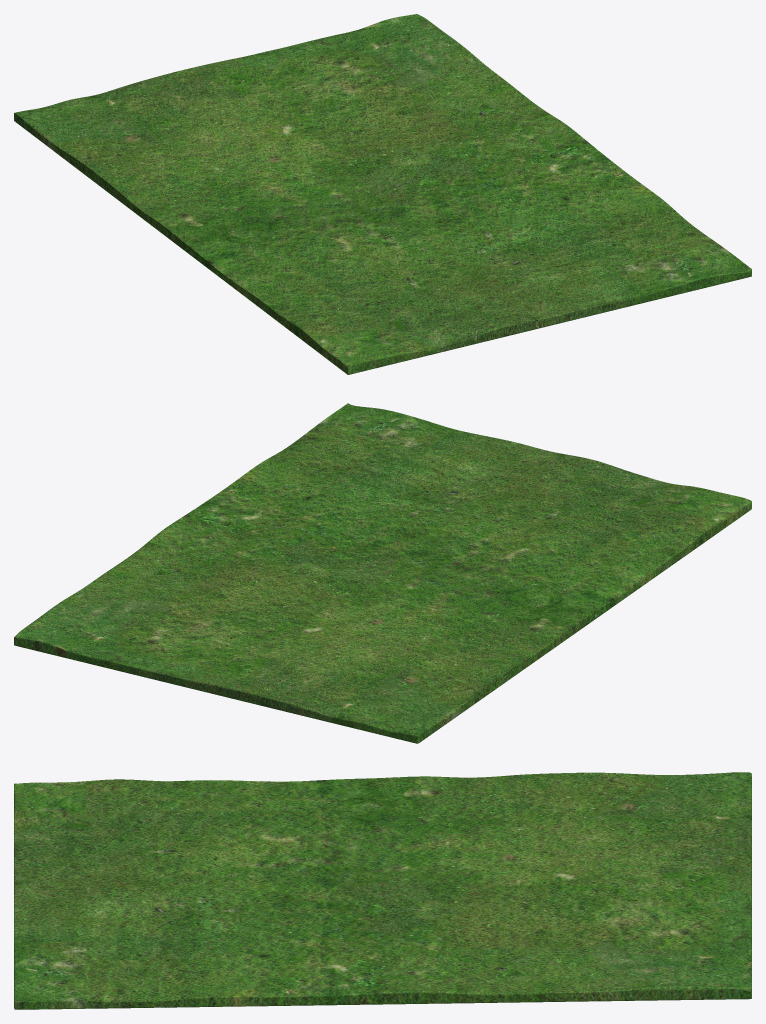
The model's file is grass.gltf.
The picture shows the model from 3 angles, top to bottom: view 1: azimuth 30°, elevation 25°; view 2: azimuth 150°, elevation 25°; view 3: azimuth 270°, elevation 25°; orthographic projection. The views are drawn at different scales.
Parts seen in each view (by area): view 1: 10450_Rectangular_Grass_Patch_v1_iterations-2; view 2: 10450_Rectangular_Grass_Patch_v1_iterations-2; view 3: 10450_Rectangular_Grass_Patch_v1_iterations-2.
Boxes of the visible parts, bbox=[...] form: 10450_Rectangular_Grass_Patch_v1_iterations-2: bbox=[14, 14, 751, 374]; 10450_Rectangular_Grass_Patch_v1_iterations-2: bbox=[14, 403, 751, 743]; 10450_Rectangular_Grass_Patch_v1_iterations-2: bbox=[14, 772, 751, 1009].
Size of the model in its own units: 11.59 by 0.5633 by 16.6.
1 material, 1 textured.
